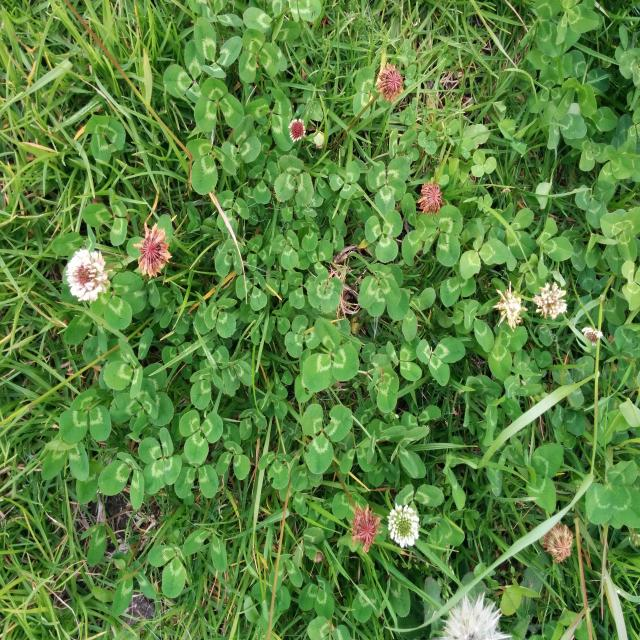Four Leaf Clover: (138, 428, 182, 494)
